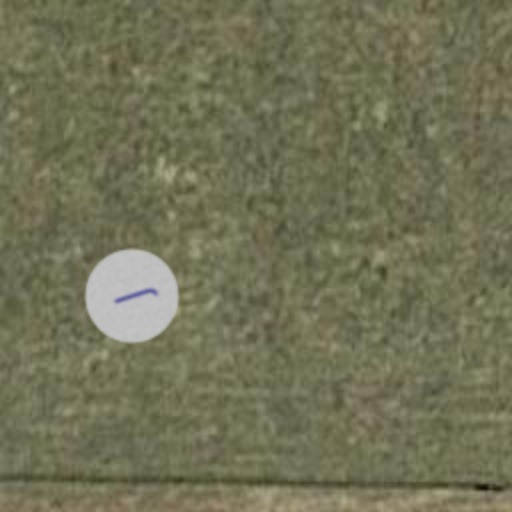circle: (72, 236, 192, 356)
